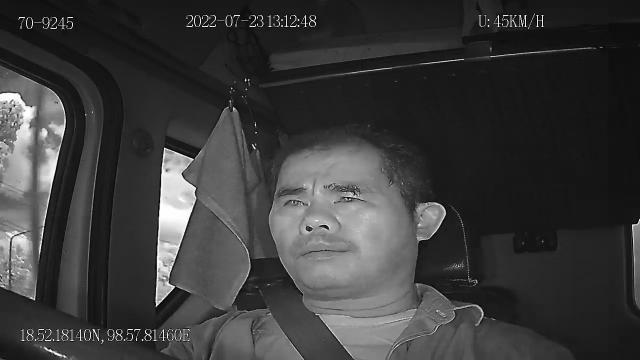SafeDriving: (327, 185, 372, 212), (276, 188, 313, 213)
Seatbelt: (256, 286, 358, 360)
